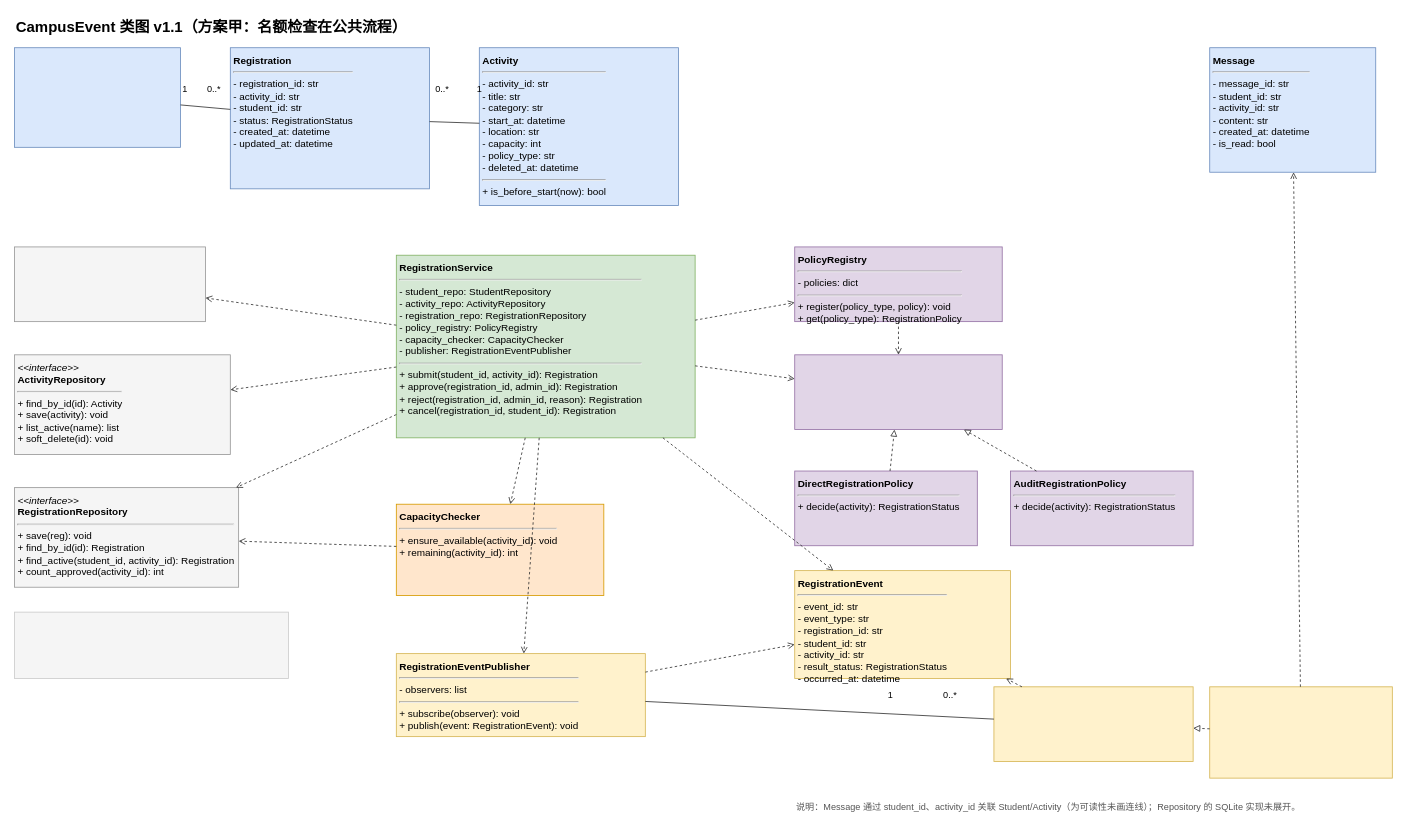
Some shapes in this 1407 by 833 pixel diagram are drawn without their labels. The centre of each missing label's shape, as x and y in pixels:
"<<interface>> RegistrationObserver + on_registration_event(event): void" goes at (1093,724).
"<<interface>> RegistrationPolicy + decide(activity): RegistrationStatus" goes at (898,392).
"<<interface>> StudentRepository + find_by_id(id): Student" goes at (109,284).
"MessageObserver + on_registration_event(event): void" goes at (1300,732).
"Student - student_id: str - name: str" goes at (97,97).
"版本：v1.1 日期：2026-11-22 阶段：CR 前基线段（baseline-v1） 方案：甲（名额检查在公共流程）" goes at (151,645).
